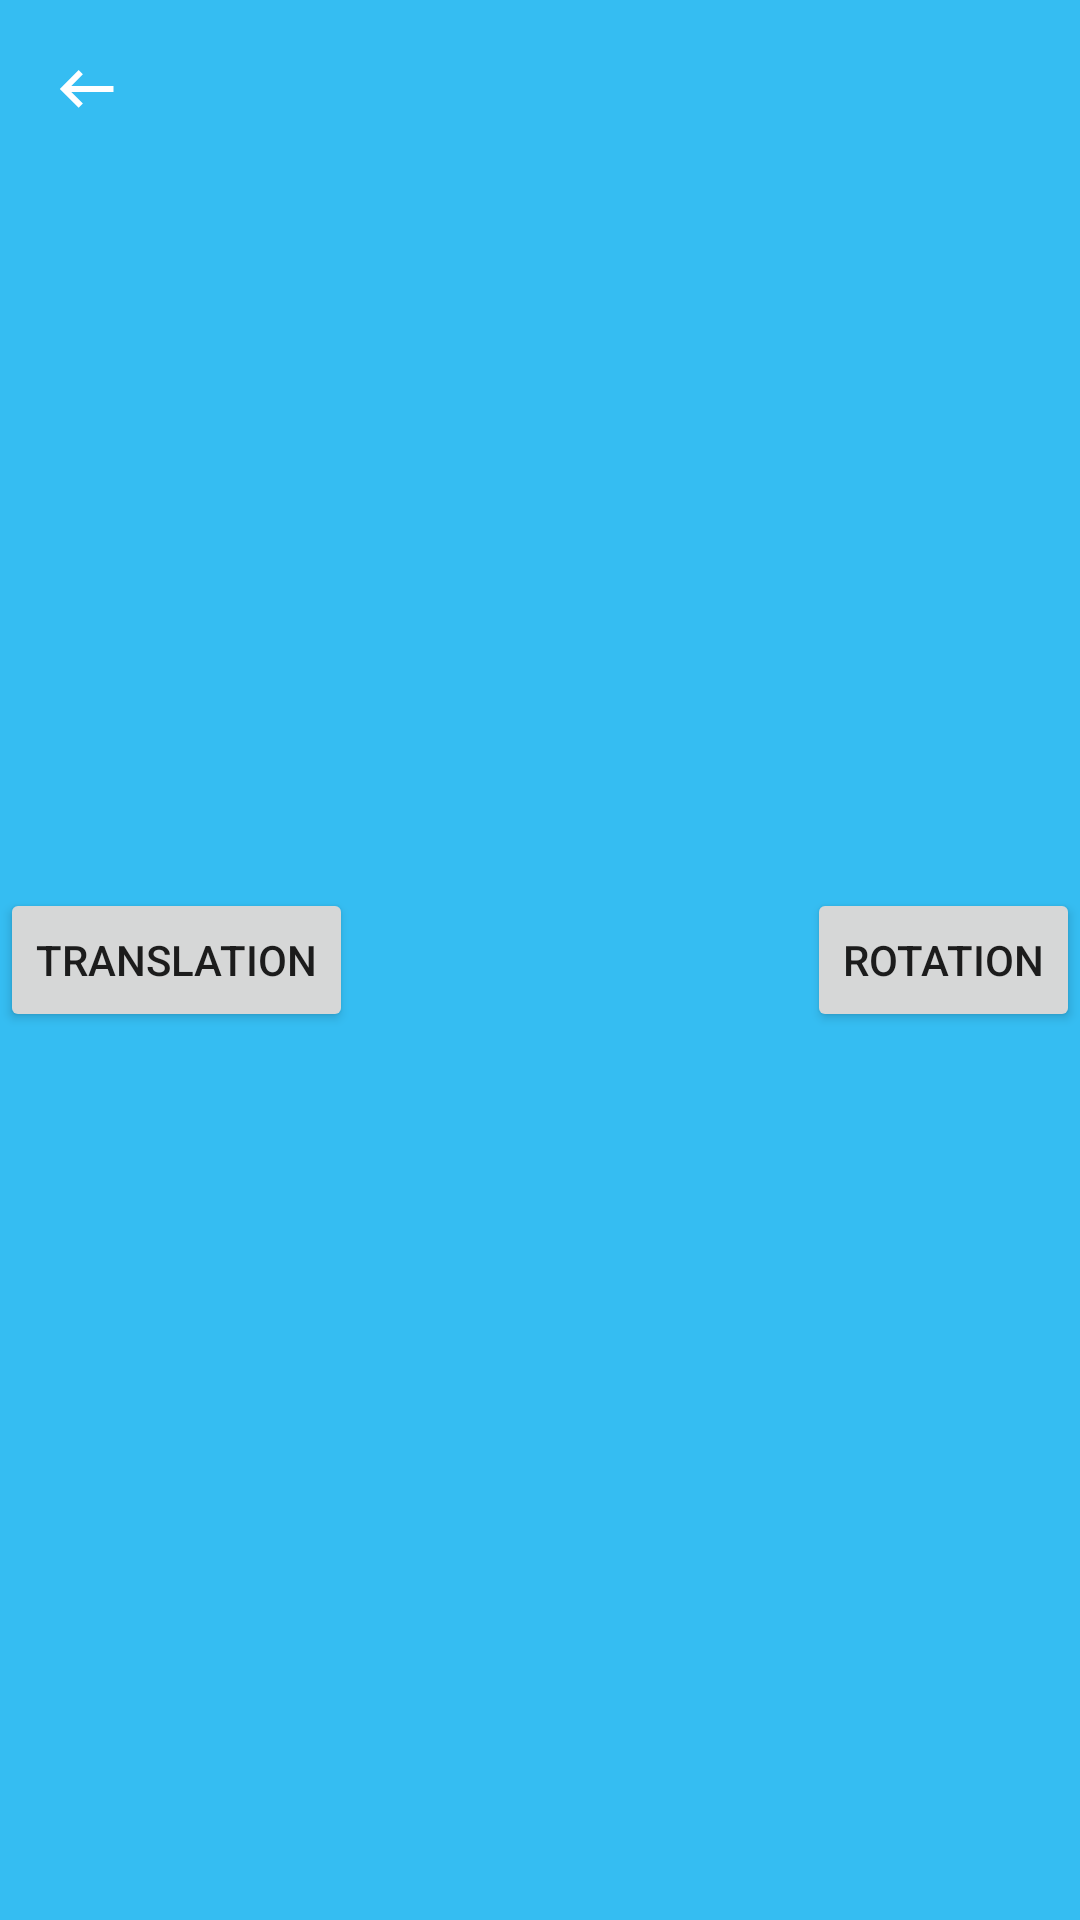

Named icons in this screenshot (1080 × 1920) and their centers, [x,y]:
back: [87,89]
